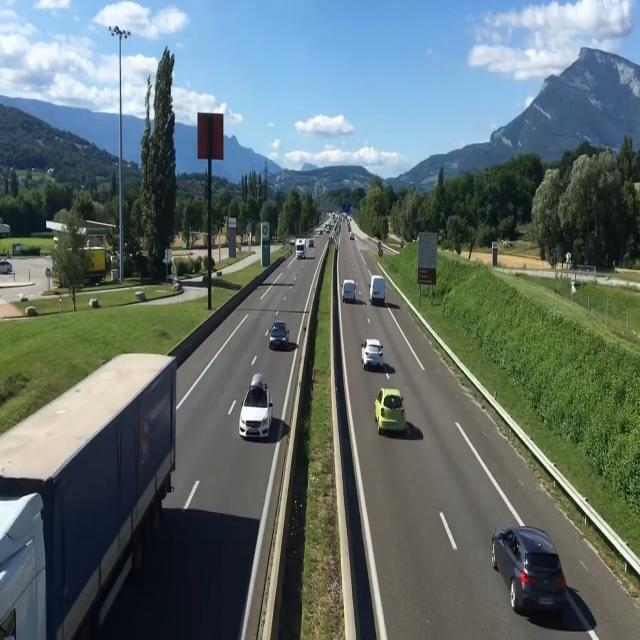car: (502, 521, 562, 619), (240, 374, 274, 442), (374, 384, 410, 442), (360, 336, 389, 372), (268, 312, 294, 351), (294, 230, 318, 264), (368, 278, 389, 309), (344, 276, 358, 304)
